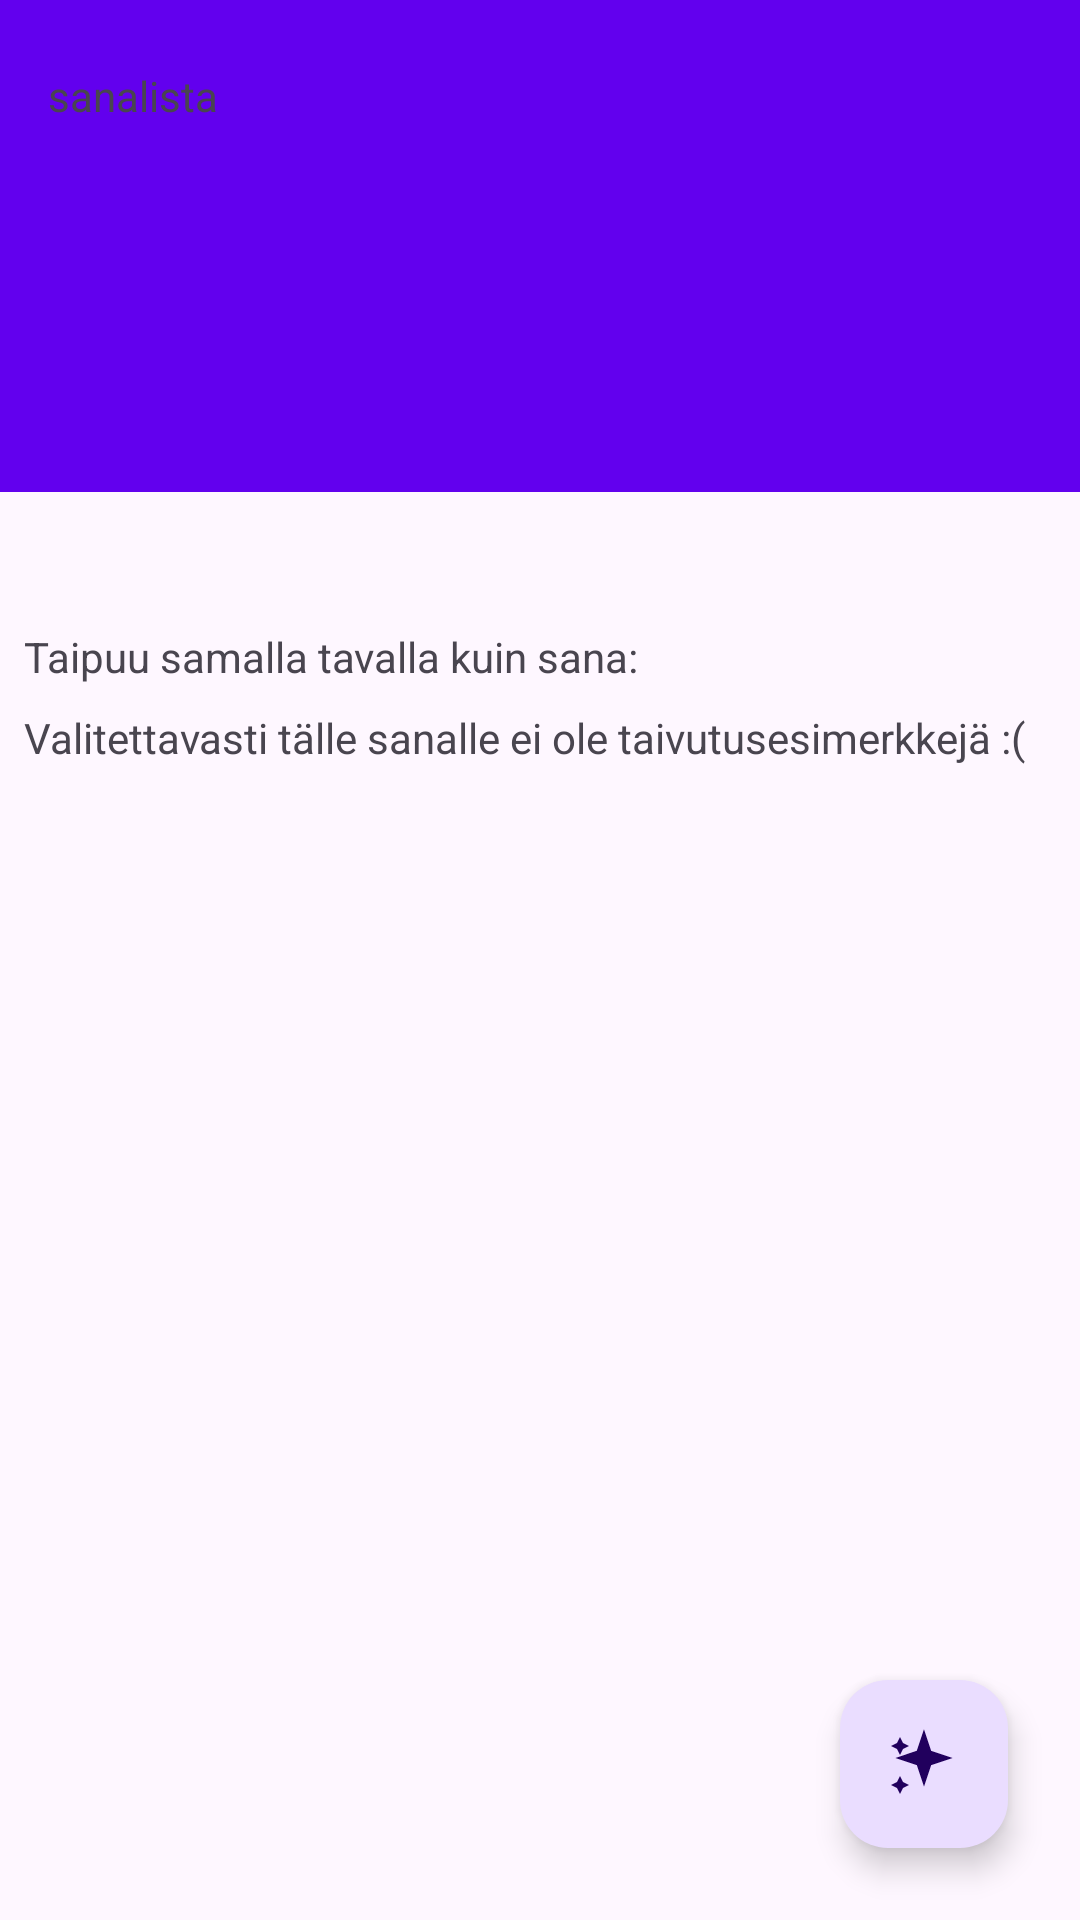

Named icons in this screenshot (1080x1920) and their centers, [x,y]:
aibutton: [924,1764]
